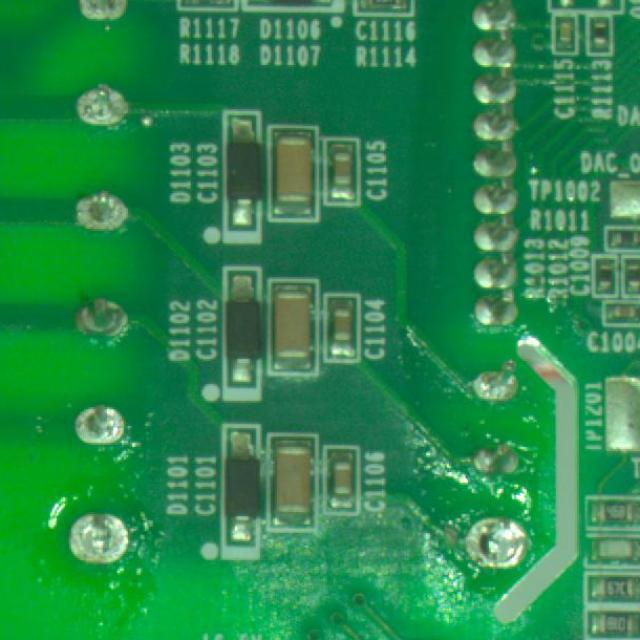Insufficient solder: (56, 494, 138, 572), (444, 348, 526, 407), (58, 182, 134, 242), (453, 516, 530, 574), (72, 392, 136, 444), (69, 71, 132, 122), (58, 0, 136, 26)
